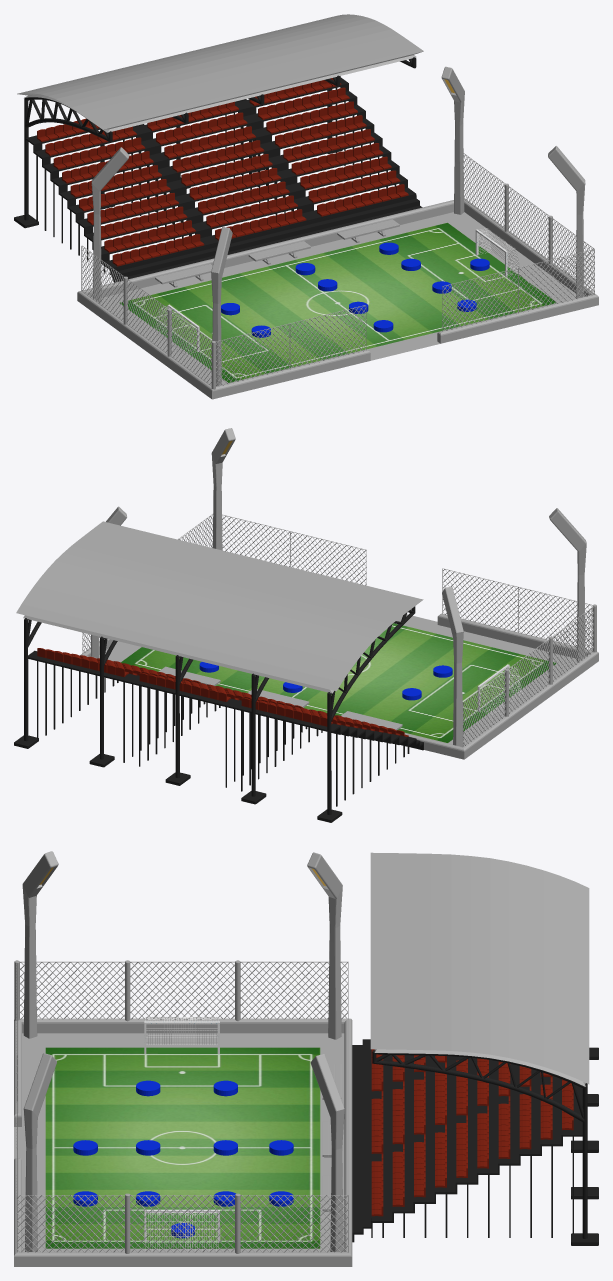
3 views of the same model, one above another, from view 1: azimuth 30°, elevation 25°; view 2: azimuth 150°, elevation 25°; view 3: azimuth 270°, elevation 25° (orthographic). The views are drawn at different scales.
Visible parts, largest first — view 1: court; view 2: court; view 3: court.
Part boxes in pixels (x1,y1,x2,y2): court: (14, 14, 598, 399); court: (14, 428, 598, 822); court: (14, 851, 598, 1266).
Size of the model in its own units: 2650 by 1032 by 2768.
Materials: 17 (7 with a texture image).
